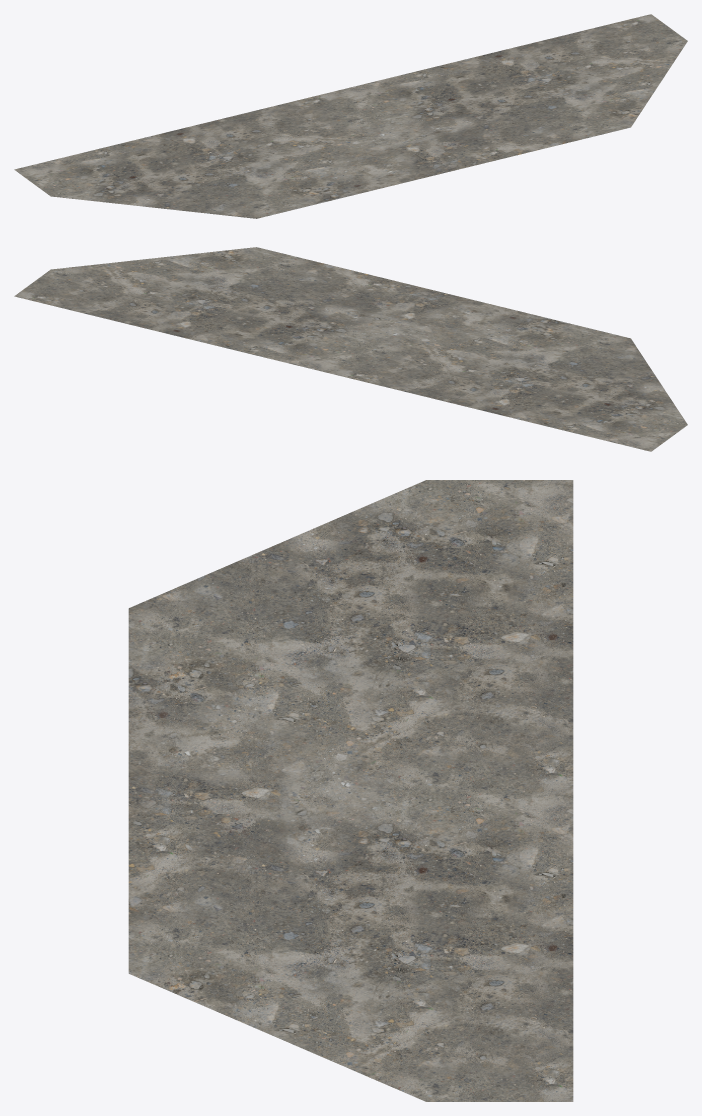
The model's file is SM_CryptFloor_01_01.fbx.
3 views of the same model, one above another, from view 1: azimuth 30°, elevation 25°; view 2: azimuth 150°, elevation 25°; view 3: azimuth 270°, elevation 25° (orthographic). The views are drawn at different scales.
Visible parts, largest first — view 1: sm_CryptFloor_01_01_LOD0; view 2: sm_CryptFloor_01_01_LOD0; view 3: sm_CryptFloor_01_01_LOD0.
Boxes of the visible parts, x1,y1,x2,y2 form: sm_CryptFloor_01_01_LOD0: [14, 14, 687, 218]; sm_CryptFloor_01_01_LOD0: [14, 247, 687, 451]; sm_CryptFloor_01_01_LOD0: [128, 480, 573, 1101].
Bounding box in the file's own units: 227 × 750 × 2.7e-05.
